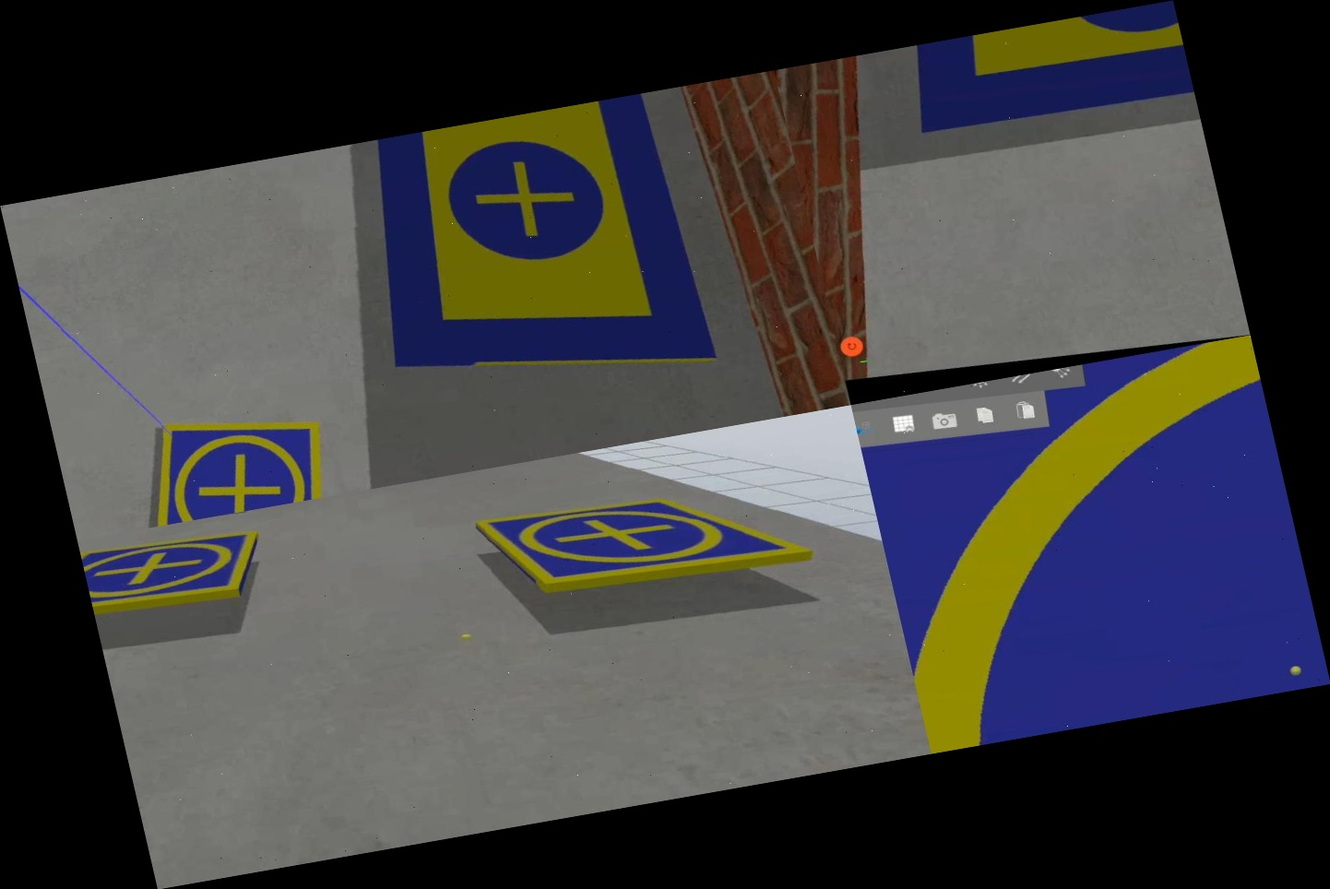large_base: (338, 86, 747, 417), (901, 0, 1198, 161)
small_base: (851, 335, 1330, 753), (467, 462, 822, 622), (120, 394, 337, 528), (78, 514, 275, 625)
